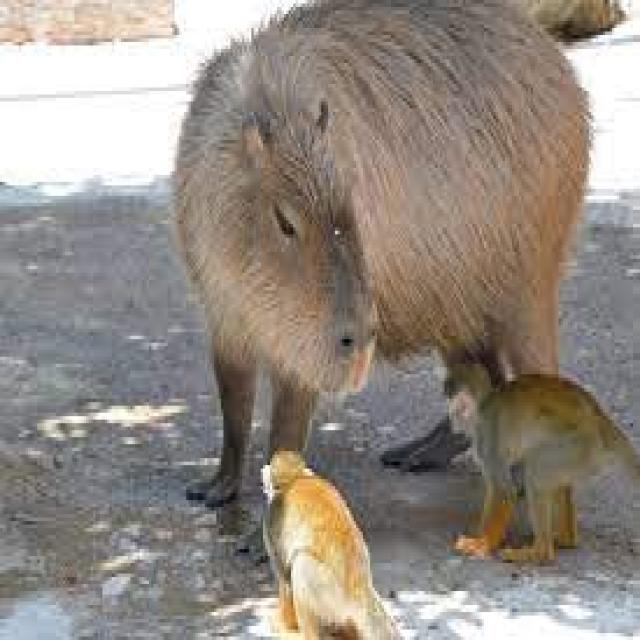capy: (172, 1, 593, 417)
